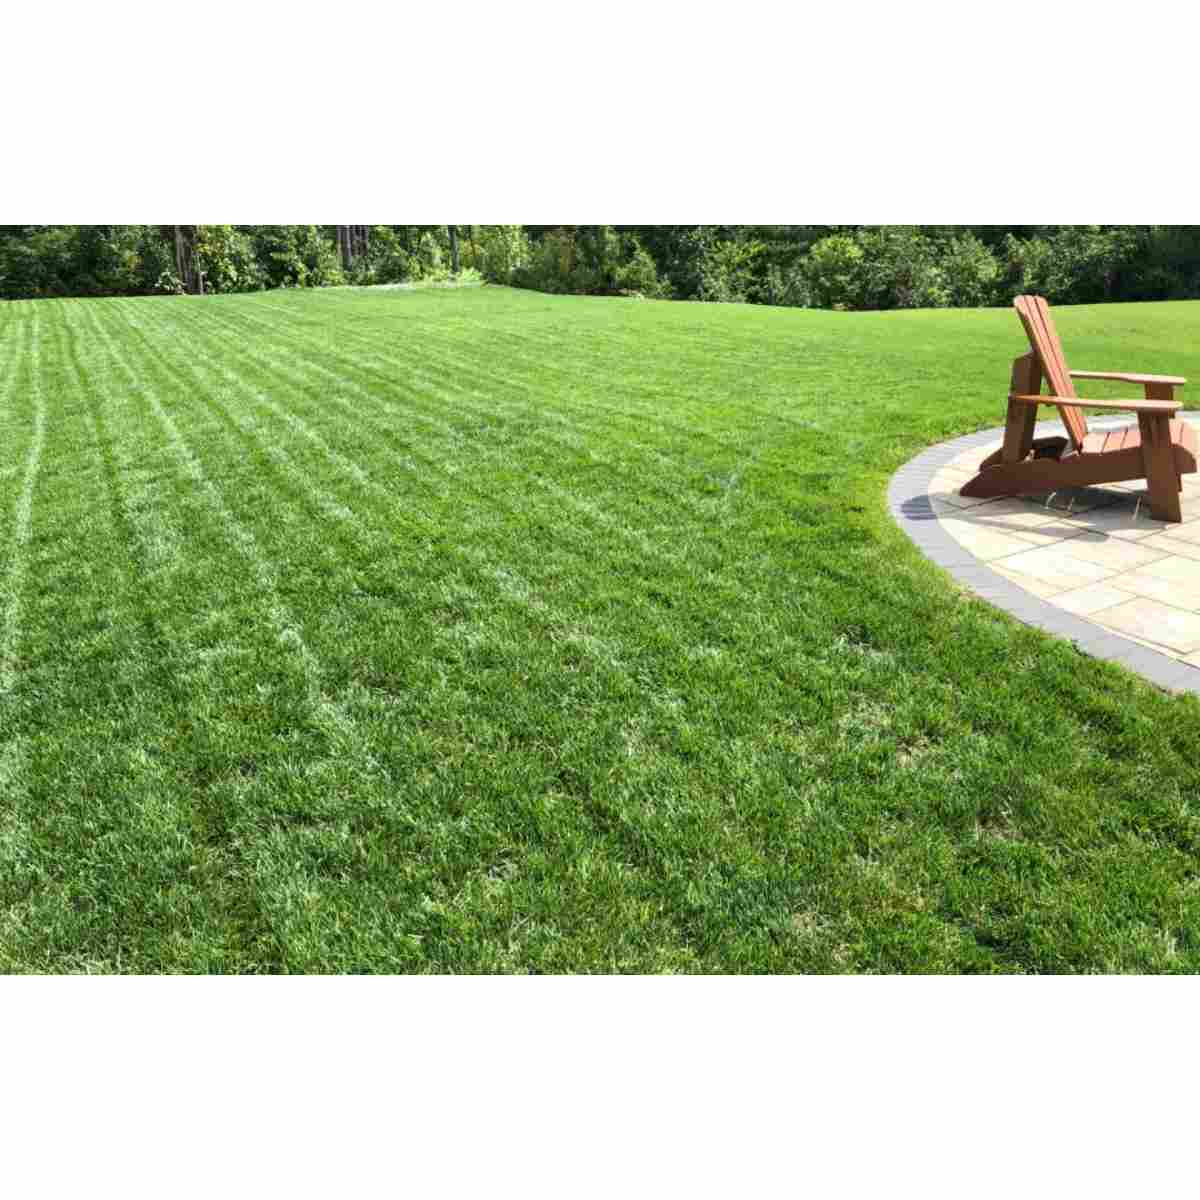grass: (1, 305, 884, 969)
